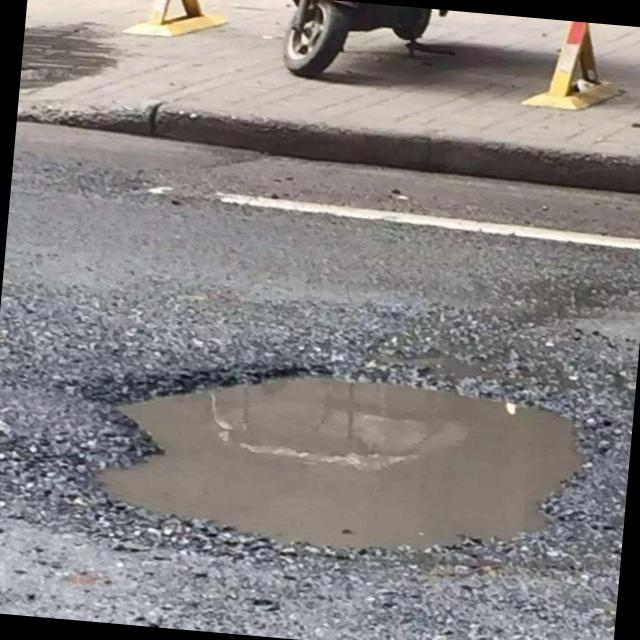Pothole: (75, 373, 597, 550)
